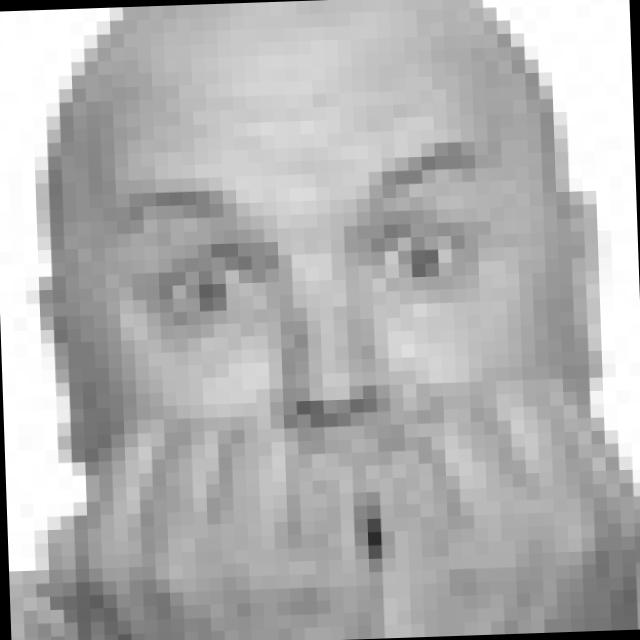fear: (112, 128, 506, 593)
